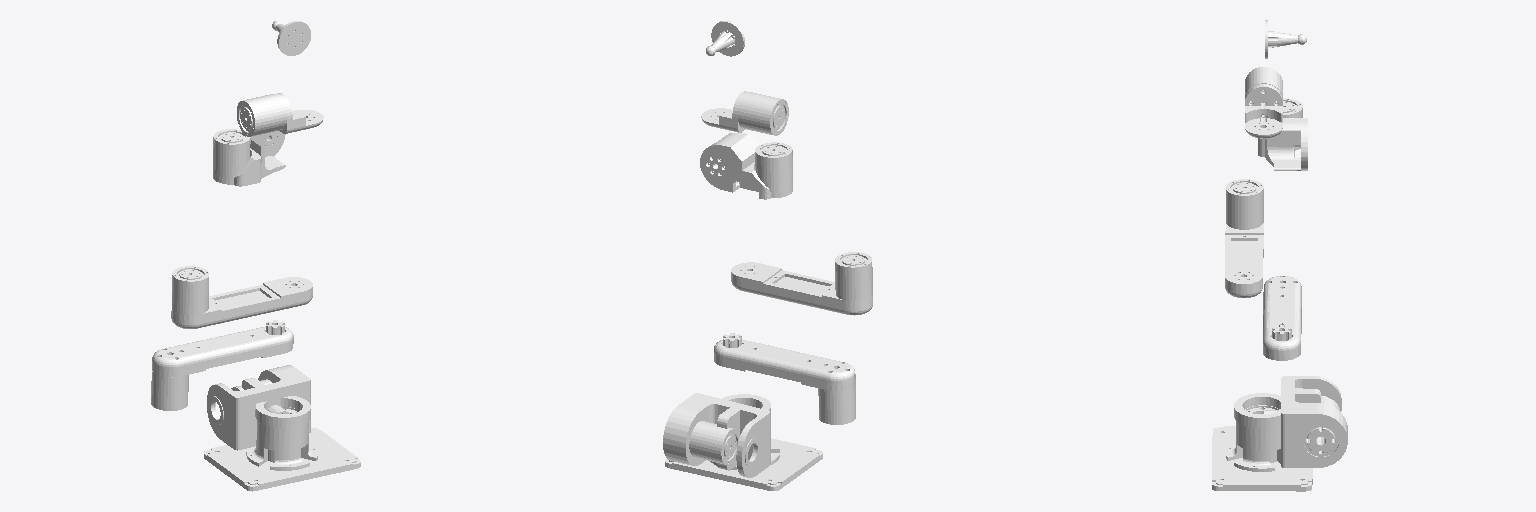
robot.urdf — miku_dummy:
<?xml version="1.0" encoding="utf-8"?>
<!-- This URDF was automatically created by SolidWorks to URDF Exporter! Originally created by Stephen Brawner (brawner@gmail.com) 
     Commit Version: 1.6.0-4-g7f85cfe  Build Version: 1.6.7995.38578
     For more information, please see http://wiki.ros.org/sw_urdf_exporter -->
<robot
  name="miku_dummy">
  <link
    name="base_link">
    <inertial>
      <origin
        xyz="0.010645 -0.010486 1.5689E-05"
        rpy="0 0 0" />
      <mass
        value="0.65234" />
      <inertia
        ixx="0.00083423"
        ixy="2.0603E-05"
        ixz="-2.48E-06"
        iyy="0.0018578"
        iyz="4.4884E-07"
        izz="0.0012592" />
    </inertial>
    <visual>
      <origin
        xyz="0 0 0"
        rpy="0 0 0" />
      <geometry>
        <mesh
          filename="package://miku_dummy/meshes/base_link.STL" />
      </geometry>
      <material
        name="">
        <color
          rgba="1 1 1 1" />
      </material>
    </visual>
    <collision>
      <origin
        xyz="0 0 0"
        rpy="0 0 0" />
      <geometry>
        <mesh
          filename="package://miku_dummy/meshes/base_link.STL" />
      </geometry>
    </collision>
  </link>
    <link name="world"/>
  <joint name="world_joint" type="fixed">
  	<origin xyz="0 0 0.05" rpy="0 0 0"/>  <!-- Place the robot wherever you want -->
        <parent link="world"/>
        <child link="base_link"/>  <!-- replace this name with your robot's base link -->
  </joint>
  <link
    name="link_1">
    <inertial>
      <origin
        xyz="0.000633370299924666 -0.010196668583567 0.065408783417204"
        rpy="0 0 0" />
      <mass
        value="0.692425105141899" />
      <inertia
        ixx="0.00143622623294635"
        ixy="-6.68061216094941E-06"
        ixz="-1.17692934301956E-05"
        iyy="0.000828966782862348"
        iyz="0.000212725566549657"
        izz="0.00137510741508073" />
    </inertial>
    <visual>
      <origin
        xyz="0 0 0"
        rpy="0 0 0" />
      <geometry>
        <mesh
          filename="package://miku_dummy/meshes/link_1.STL" />
      </geometry>
      <material
        name="">
        <color
          rgba="1 1 1 1" />
      </material>
    </visual>
    <collision>
      <origin
        xyz="0 0 0"
        rpy="0 0 0" />
      <geometry>
        <mesh
          filename="package://miku_dummy/meshes/link_1.STL" />
      </geometry>
    </collision>
  </link>
  <joint
    name="joint_1"
    type="revolute">
    <origin
      xyz="0.011409 -4.0956E-05 0.027483"
      rpy="0.00054808 0 -0.0058653" />
    <parent
      link="base_link" />
    <child
      link="link_1" />
    <axis
      xyz="0.020115 0 0.9998" />
    <limit
      lower="-2.3562"
      upper="2.3562"
      effort="9"
      velocity="0.5" />
  </joint>
  <link
    name="link_2">
    <inertial>
      <origin
        xyz="1.069E-08 0.11068 0.0057686"
        rpy="0 0 0" />
      <mass
        value="0.68644" />
      <inertia
        ixx="0.0026635"
        ixy="-6.862E-11"
        ixz="-1.4098E-10"
        iyy="0.00023475"
        iyz="1.5737E-05"
        izz="0.0027619" />
    </inertial>
    <visual>
      <origin
        xyz="0 0 0"
        rpy="0 0 0" />
      <geometry>
        <mesh
          filename="package://miku_dummy/meshes/link_2.STL" />
      </geometry>
      <material
        name="">
        <color
          rgba="1 1 1 1" />
      </material>
    </visual>
    <collision>
      <origin
        xyz="0 0 0"
        rpy="0 0 0" />
      <geometry>
        <mesh
          filename="package://miku_dummy/meshes/link_2.STL" />
      </geometry>
    </collision>
  </link>
  <joint
    name="joint_2"
    type="revolute">
    <origin
      xyz="0.0017299 0.0291 0.085983"
      rpy="1.5708 -0.020116 3.1416" />
    <parent
      link="link_1" />
    <child
      link="link_2" />
    <axis
      xyz="0 0 1" />
    <limit
      lower="-1.5708"
      upper="1.5708"
      effort="9"
      velocity="0.5" />
  </joint>
  <link
    name="link_3">
    <inertial>
      <origin
        xyz="-1.9471E-08 -0.11005 0.0061165"
        rpy="0 0 0" />
      <mass
        value="0.7374" />
      <inertia
        ixx="0.0028522"
        ixy="-6.4004E-11"
        ixz="2.3705E-10"
        iyy="0.00025113"
        iyz="1.0602E-06"
        izz="0.0029667" />
    </inertial>
    <visual>
      <origin
        xyz="0 0 0"
        rpy="0 0 0" />
      <geometry>
        <mesh
          filename="package://miku_dummy/meshes/link_3.STL" />
      </geometry>
      <material
        name="">
        <color
          rgba="1 1 1 1" />
      </material>
    </visual>
    <collision>
      <origin
        xyz="0 0 0"
        rpy="0 0 0" />
      <geometry>
        <mesh
          filename="package://miku_dummy/meshes/link_3.STL" />
      </geometry>
    </collision>
  </link>
  <joint
    name="joint_3"
    type="revolute">
    <origin
      xyz="0 0.184 -0.0565"
      rpy="3.1416 0 0" />
    <parent
      link="link_2" />
    <child
      link="link_3" />
    <axis
      xyz="0 0 1" />
    <limit
      lower="-1.5707963267949"
      upper="1.5707963267949"
      effort="9"
      velocity="0.5" />
  </joint>
  <link
    name="link_4">
    <inertial>
      <origin
        xyz="0.00759705800409484 0.0496282903516812 -0.0216047613259382"
        rpy="0 0 0" />
      <mass
        value="0.60268642518722" />
      <inertia
        ixx="0.000676640205250624"
        ixy="-0.000138027342753275"
        ixz="6.36871838709533E-05"
        iyy="0.000520624855922666"
        iyz="0.000140769176144584"
        izz="0.000687786145664773" />
    </inertial>
    <visual>
      <origin
        xyz="0 0 0"
        rpy="0 0 0" />
      <geometry>
        <mesh
          filename="package://miku_dummy/meshes/link_4.STL" />
      </geometry>
      <material
        name="">
        <color
          rgba="1 1 1 1" />
      </material>
    </visual>
    <collision>
      <origin
        xyz="0 0 0"
        rpy="0 0 0" />
      <geometry>
        <mesh
          filename="package://miku_dummy/meshes/link_4.STL" />
      </geometry>
    </collision>
  </link>
  <joint
    name="joint_4"
    type="revolute">
    <origin
      xyz="0 -0.184 -0.0565"
      rpy="-3.1416 0 0" />
    <parent
      link="link_3" />
    <child
      link="link_4" />
    <axis
      xyz="0 0 1" />
    <limit
      lower="-1.5707963267949"
      upper="1.5707963267949"
      effort="9"
      velocity="0.5" />
  </joint>
  <link
    name="link_5">
    <inertial>
      <origin
        xyz="-0.0150821538144421 0.0603003412972294 -8.84788967553357E-05"
        rpy="0 0 0" />
      <mass
        value="0.209320593665094" />
      <inertia
        ixx="0.000109769760788772"
        ixy="9.73354310837211E-06"
        ixz="3.00623006278532E-08"
        iyy="8.79733880585506E-05"
        iyz="5.71032059338492E-08"
        izz="0.0001046455150777" />
    </inertial>
    <visual>
      <origin
        xyz="0 0 0"
        rpy="0 0 0" />
      <geometry>
        <mesh
          filename="package://miku_dummy/meshes/link_5.STL" />
      </geometry>
      <material
        name="">
        <color
          rgba="1 1 1 1" />
      </material>
    </visual>
    <collision>
      <origin
        xyz="0 0 0"
        rpy="0 0 0" />
      <geometry>
        <mesh
          filename="package://miku_dummy/meshes/link_5.STL" />
      </geometry>
    </collision>
  </link>
  <joint
    name="joint_5"
    type="revolute">
    <origin
      xyz="-0.03 0.0815 -0.0266"
      rpy="3.1416 -0.0058665 -3.1416" />
    <parent
      link="link_4" />
    <child
      link="link_5" />
    <axis
      xyz="1 0 0" />
    <limit
      lower="-1.5708"
      upper="1.5708"
      effort="9"
      velocity="0.5" />
  </joint>
  <link
    name="link_6">
    <inertial>
      <origin
        xyz="-4.5319E-06 -0.025505 0.072487"
        rpy="0 0 0" />
      <mass
        value="0.57248" />
      <inertia
        ixx="0.00046739"
        ixy="-3.0967E-08"
        ixz="2.1342E-07"
        iyy="0.00019306"
        iyz="-3.6872E-06"
        izz="0.00054284" />
    </inertial>
    <visual>
      <origin
        xyz="0 0 0"
        rpy="0 0 0" />
      <geometry>
        <mesh
          filename="package://miku_dummy/meshes/link_6.STL" />
      </geometry>
      <material
        name="">
        <color
          rgba="1 1 1 1" />
      </material>
    </visual>
    <collision>
      <origin
        xyz="0 0 0"
        rpy="0 0 0" />
      <geometry>
        <mesh
          filename="package://miku_dummy/meshes/link_6.STL" />
      </geometry>
    </collision>
  </link>
  <joint
    name="joint_6"
    type="revolute">
    <origin
      xyz="-0.0195 0.105 -0.0001144"
      rpy="-1.5708 -0.0058665 0" />
    <parent
      link="link_5" />
    <child
      link="link_6" />
    <axis
      xyz="0 0 1" />
    <limit
      lower="-2.3562"
      upper="2.3562"
      effort="9"
      velocity="0.5" />
  </joint>
</robot>

--- Render facts (derived) ---
3 views of the same robot in one strip: view 1: azimuth 30°, elevation 25°; view 2: azimuth 150°, elevation 25°; view 3: azimuth 270°, elevation 25° (orthographic).
Robot: miku_dummy — 8 links, 7 joints (6 revolute, 1 fixed); root link world; default pose: all joints at 0.
Links seen in each view (by area): view 1: base_link, link_2, link_3, link_1, link_4, link_5, link_6; view 2: link_1, link_2, link_3, link_4, base_link, link_5, link_6; view 3: base_link, link_1, link_3, link_2, link_5, link_4, link_6.
Boxes of the visible links, x1,y1,x2,y2 form: base_link: (204,396,360,491); link_2: (151,320,293,410); link_3: (171,266,312,328); link_1: (207,365,310,450); link_4: (213,129,285,186); link_5: (237,93,323,136); link_6: (272,21,310,55); link_1: (663,393,770,477); link_2: (714,333,855,424); link_3: (731,252,872,315); link_4: (700,133,792,199); base_link: (665,394,822,490); link_5: (701,91,788,135); link_6: (706,21,744,56); base_link: (1212,393,1312,491); link_1: (1264,376,1347,467); link_3: (1225,179,1263,297); link_2: (1263,276,1301,360); link_5: (1245,67,1282,138); link_4: (1258,98,1307,170); link_6: (1265,20,1306,58).
Size in the robot's own frame: 0.3103 by 0.2032 by 0.7372 metres.
7 mesh visuals loaded from 7 distinct referenced files (7 binary STL).
